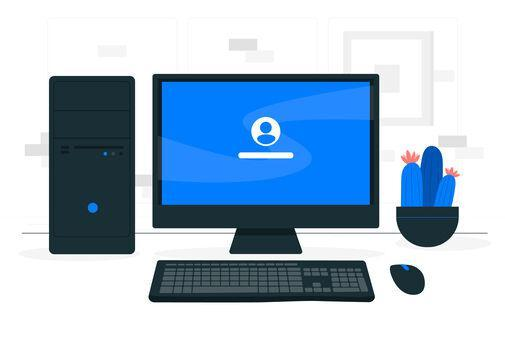keyboard: (142, 258, 384, 306)
monitor: (154, 72, 381, 255)
mouse: (386, 258, 431, 296)
pc: (48, 70, 141, 264)
